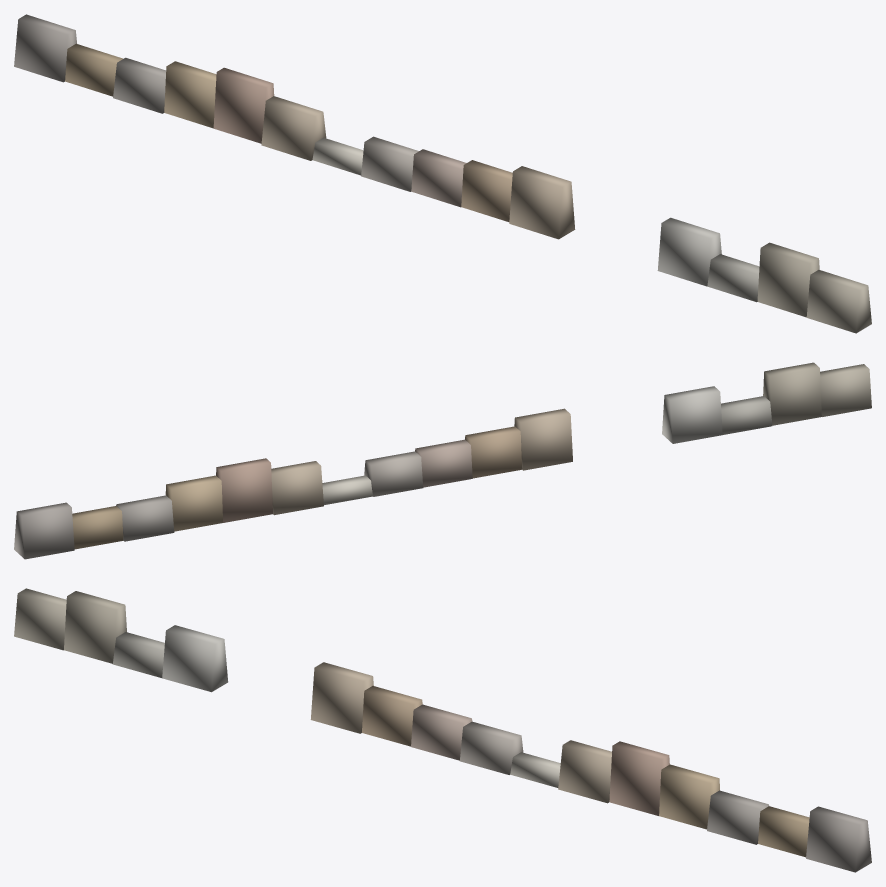
Rendered from farm_-49_-39_collision.glb.
3 views of the same model, one above another, from view 1: azimuth 90°, elevation 25°; view 2: azimuth 150°, elevation 25°; view 3: azimuth 270°, elevation 25° (orthographic). The views are drawn at different scales.
Visible parts, largest first — view 1: geometry_0; view 2: geometry_0; view 3: geometry_0.
Boxes of the visible parts, left/top/right/bottom form: geometry_0: left=14, top=14, right=871, bottom=333; geometry_0: left=14, top=362, right=871, bottom=559; geometry_0: left=14, top=588, right=871, bottom=872.
Size of the model in its own units: 15.6 by 1.86 by 21.66.
